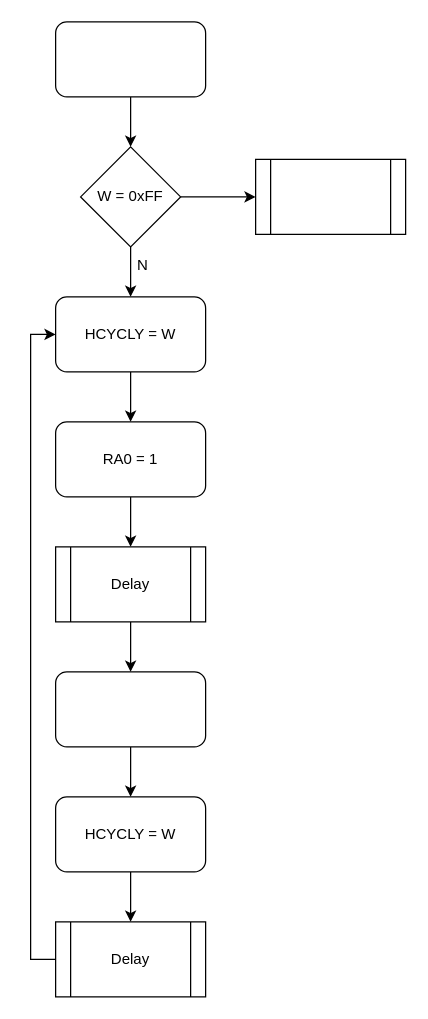
Some shapes in this 428 by 1019 pixel diagram are drawn without their labels. The centre of each missing label's shape, as x and y in pixels:
Halt: (330,196)
RA0 = 0: (130,709)
W = Port B: (130,59)
